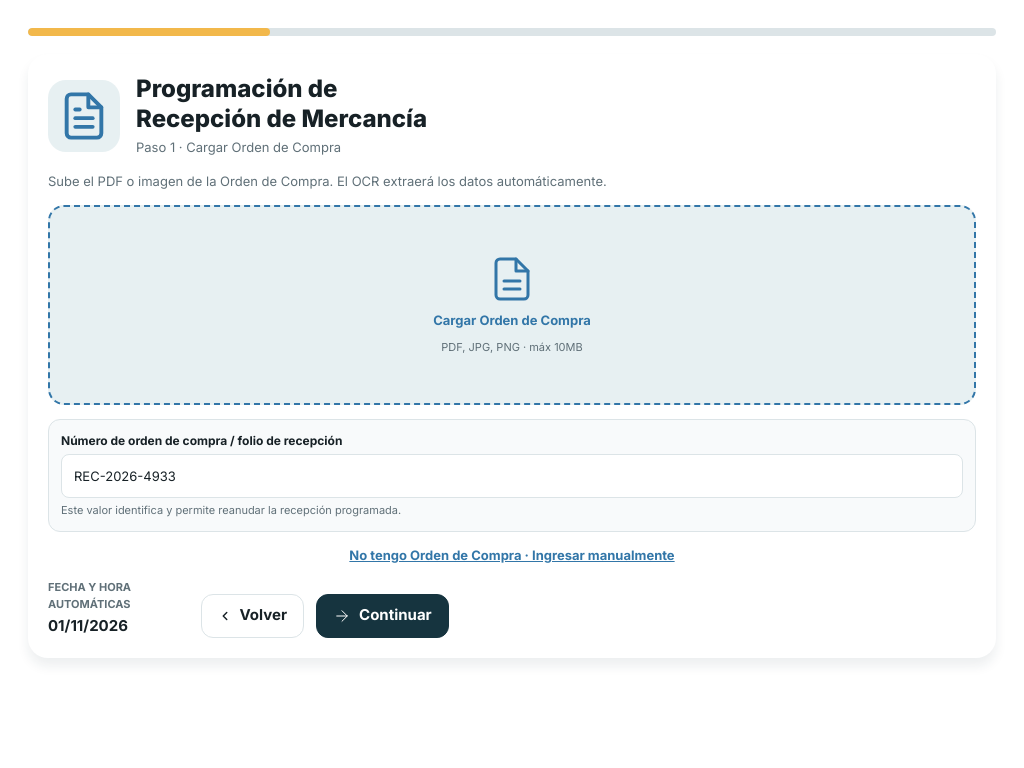
Test: ProgramacionRecepcion controlled inputs › does not invent logistics providers when the remote catalog has none
Click the button "No tengo Orden de Compra · Ingresar manualmente".
click(512, 555)  # box [48,546,976,565]
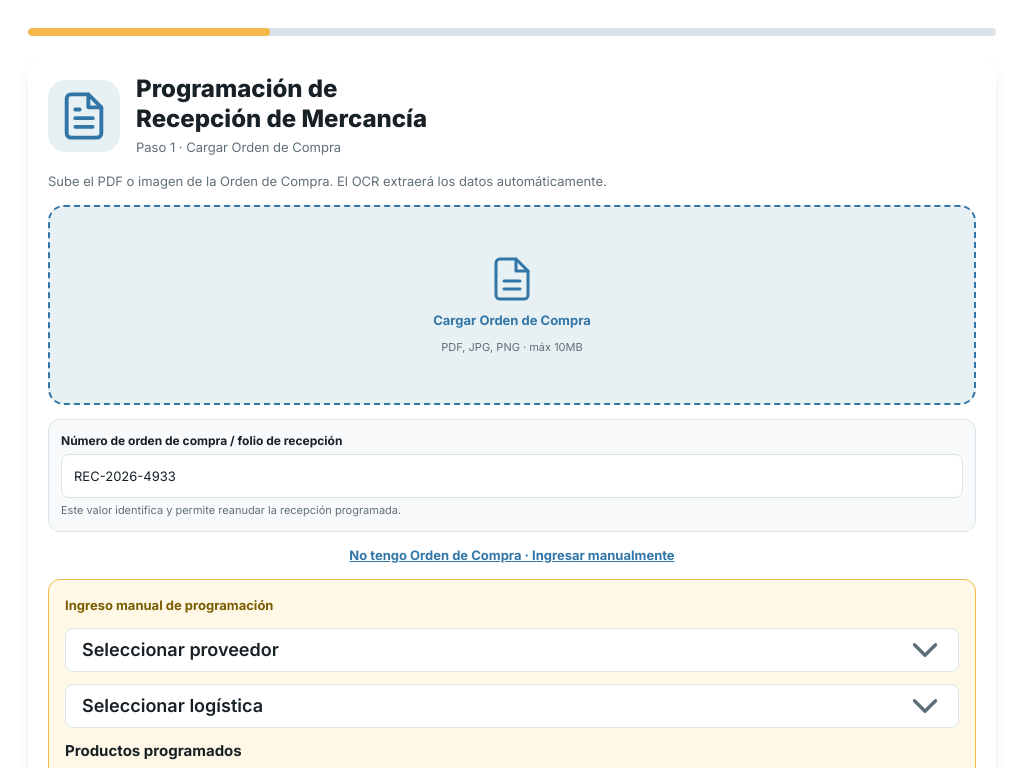
Expected: the dropdown named "Proveedor logístico" shows "Seleccionar logística", [65,684,959,728]
Select "Proveedor Norte" in the dropdown named "Proveedor de mercancía" at (512, 650), box [65,628,959,672]
(page scrolled)
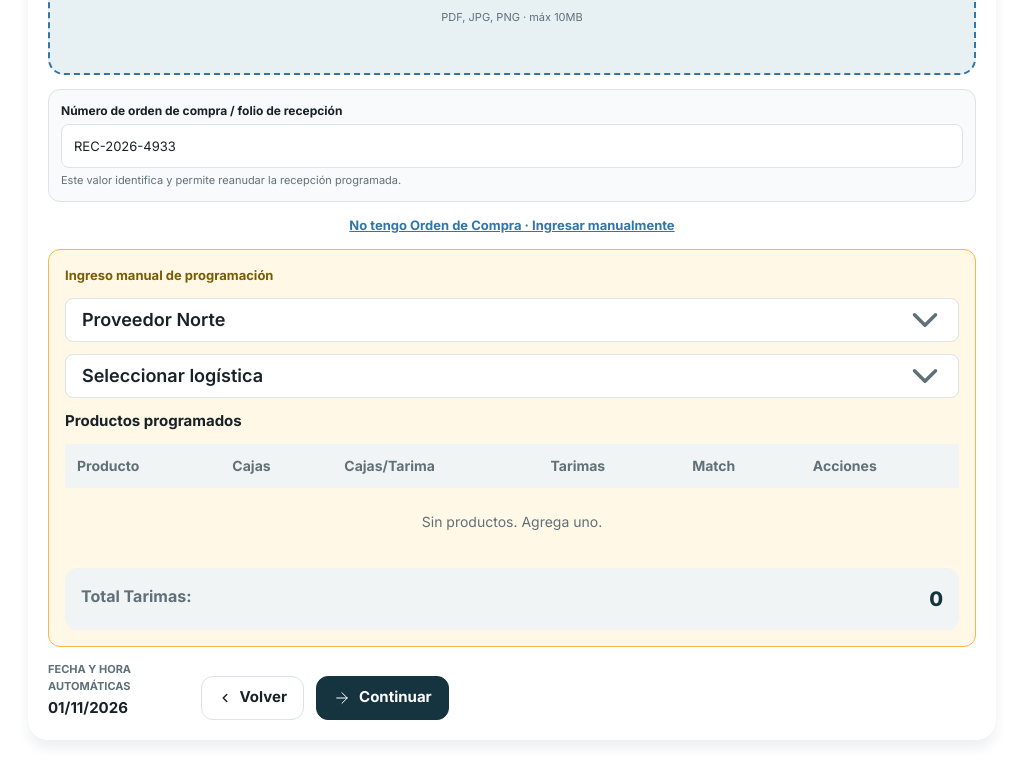
Click the button "Continuar".
click(382, 698)  # box [316,676,449,720]
(page scrolled)
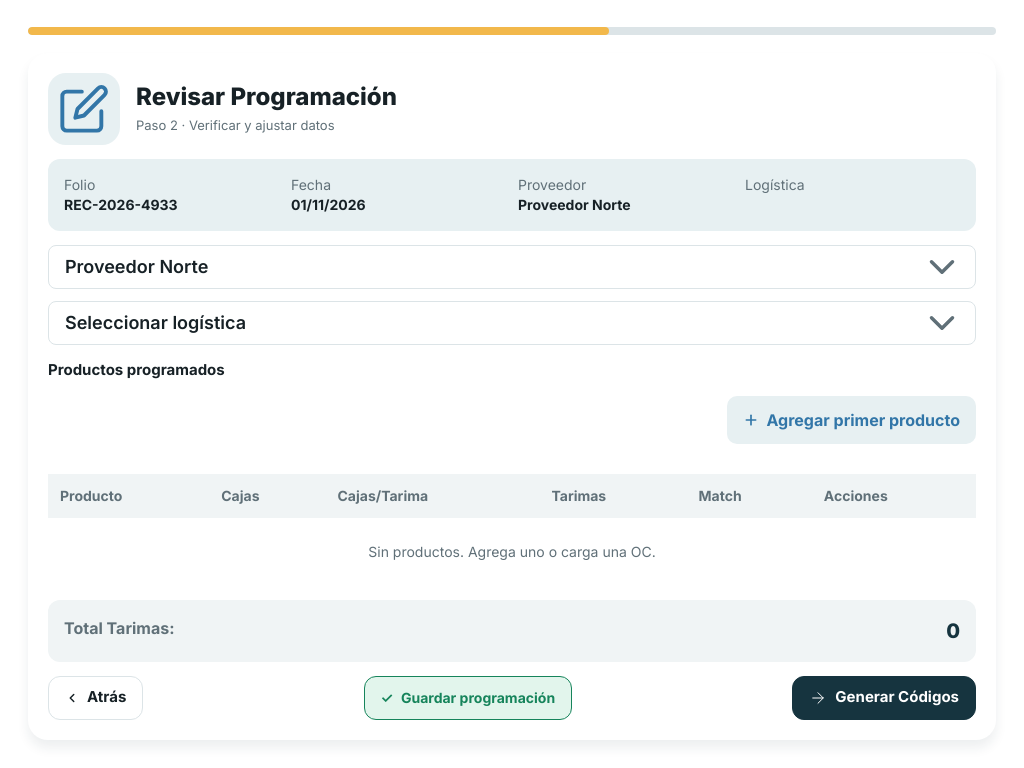
Expected: the dropdown named "Proveedor logístico" shows "Seleccionar logística", [48,301,976,345]
